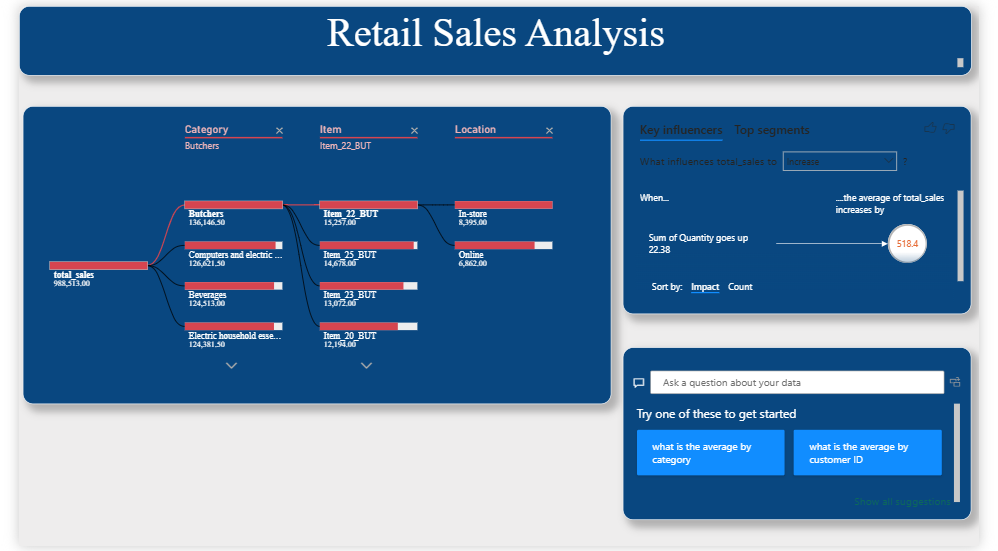

The page's visual inventory and layout, read from the dashboard file:
{"tool":"powerbi","page":{"name":"AI visuals","canvas":[1280,720],"ordinal":4},"visuals":[{"type":"keyDriversVisual","fields":{"Target":["retail_store_sales.total_sales"],"ExplainBy":["retail_store_sales.Category","Sum(retail_store_sales.Quantity)","retail_store_sales.Location","retail_store_sales.Payment Method"],"Details":["retail_store_sales.Price Per Unit"]},"box":[805,197.5,465,277.5],"z":0},{"type":"decompositionTreeVisual","fields":{"Analyze":["retail_store_sales.total_sales"],"ExplainBy":["retail_store_sales.Category","retail_store_sales.Item","retail_store_sales.Location"]},"box":[5,132.5,785,397.5],"z":1000},{"type":"textbox","title":"Retail Sales Analysis","box":[0,0,1270,92.5],"z":2000},{"type":"qnaVisual","box":[805,489.2,465,230.8],"z":2001}]}

Visuals, with their boxes in screenshot pixels (x1, y1, x2, y2), scaled from the page's 1280x720 canvas onto the 998x551 screenshot:
keyDriversVisual - retail_store_sales.total_sales x retail_store_sales.Category: box=[628, 151, 990, 364]
decompositionTreeVisual - retail_store_sales.total_sales x retail_store_sales.Category: box=[4, 101, 616, 406]
"Retail Sales Analysis" textbox: box=[0, 0, 990, 71]
qnaVisual: box=[628, 374, 990, 550]
